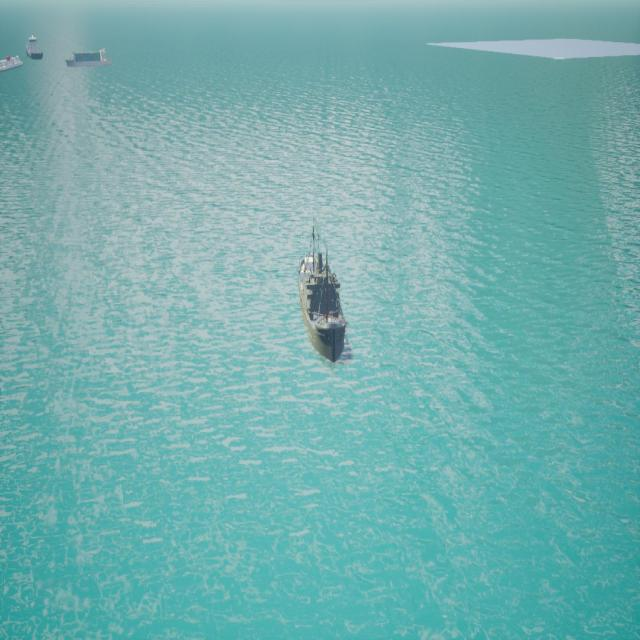fishing ship: (297, 227, 348, 365), (65, 48, 111, 67), (1, 55, 24, 75), (27, 37, 42, 62)
